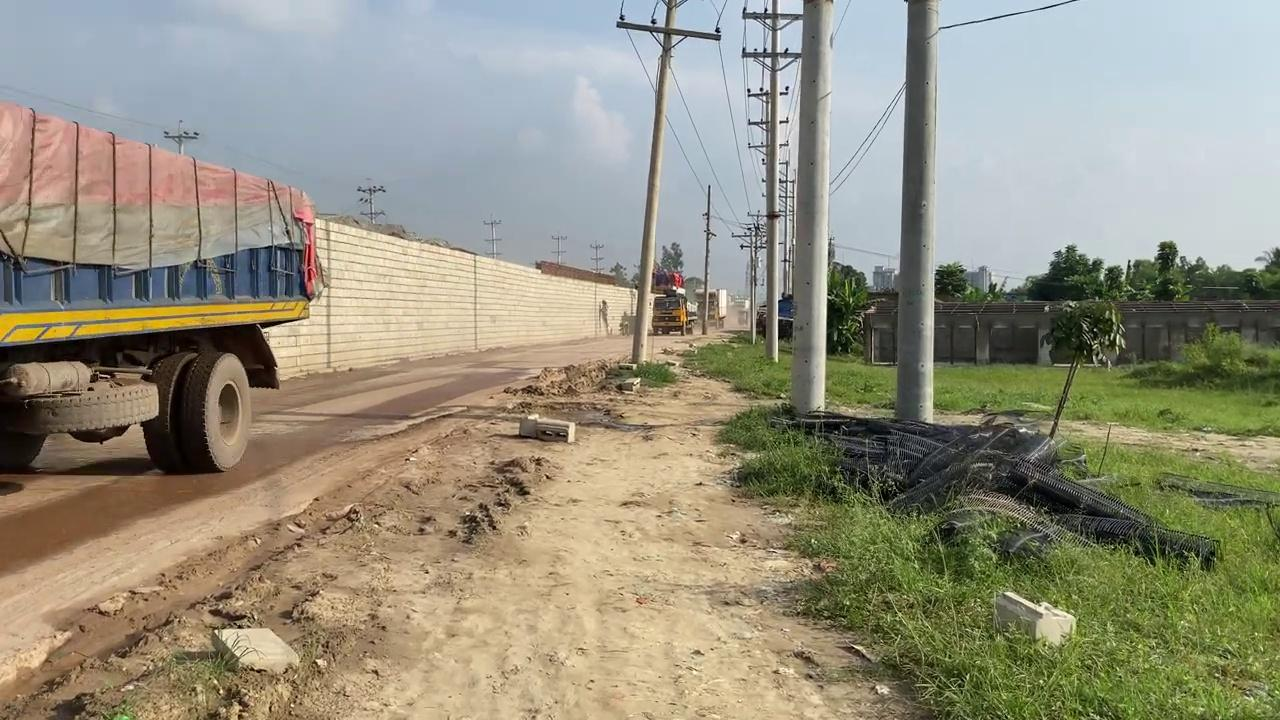Car: (755, 296, 795, 340)
Fence: (860, 298, 1278, 367)
Garbage: (766, 406, 1220, 573)
Obstacle: (518, 415, 576, 443)
Pole: (615, 0, 721, 364), (893, 0, 939, 423), (788, 0, 833, 414), (763, 0, 780, 361)
Rickshaw: (164, 330, 934, 720)
Tree: (0, 99, 325, 475), (650, 293, 690, 335), (652, 269, 685, 293)
Upstairs: (261, 214, 640, 381)
